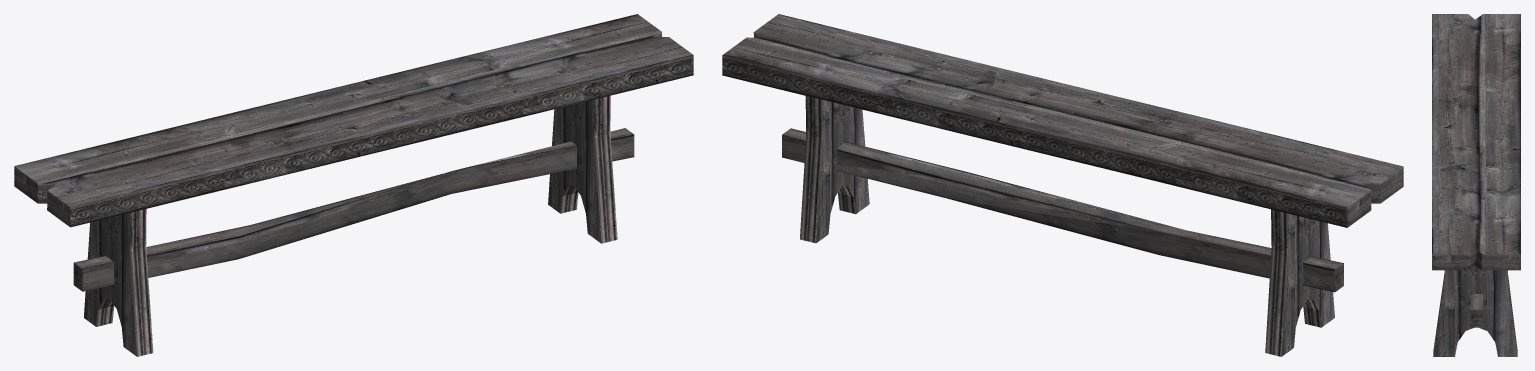
The model's file is tavern_bench.dae.
3 renders of one model, left to right at view 1: azimuth 30°, elevation 25°; view 2: azimuth 150°, elevation 25°; view 3: azimuth 270°, elevation 25°, orthographic. The views are drawn at different scales.
Parts seen in each view (by area): view 1: Default_Layer; view 2: Default_Layer; view 3: Default_Layer.
Part boxes in pixels (x1,y1,x2,y2): Default_Layer: (14, 14, 693, 356); Default_Layer: (722, 14, 1403, 356); Default_Layer: (1432, 14, 1520, 356).
Bounding box in the file's own units: 1.57 × 0.4008 × 0.2446.
